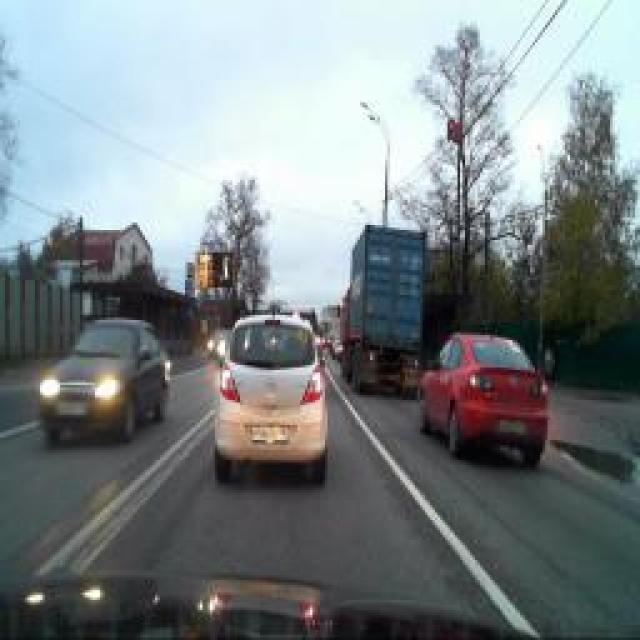sign: (185, 279, 195, 296)
